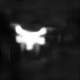plane: (13, 22, 47, 51)
